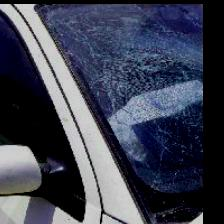glass_shatter: (33, 1, 217, 219)
